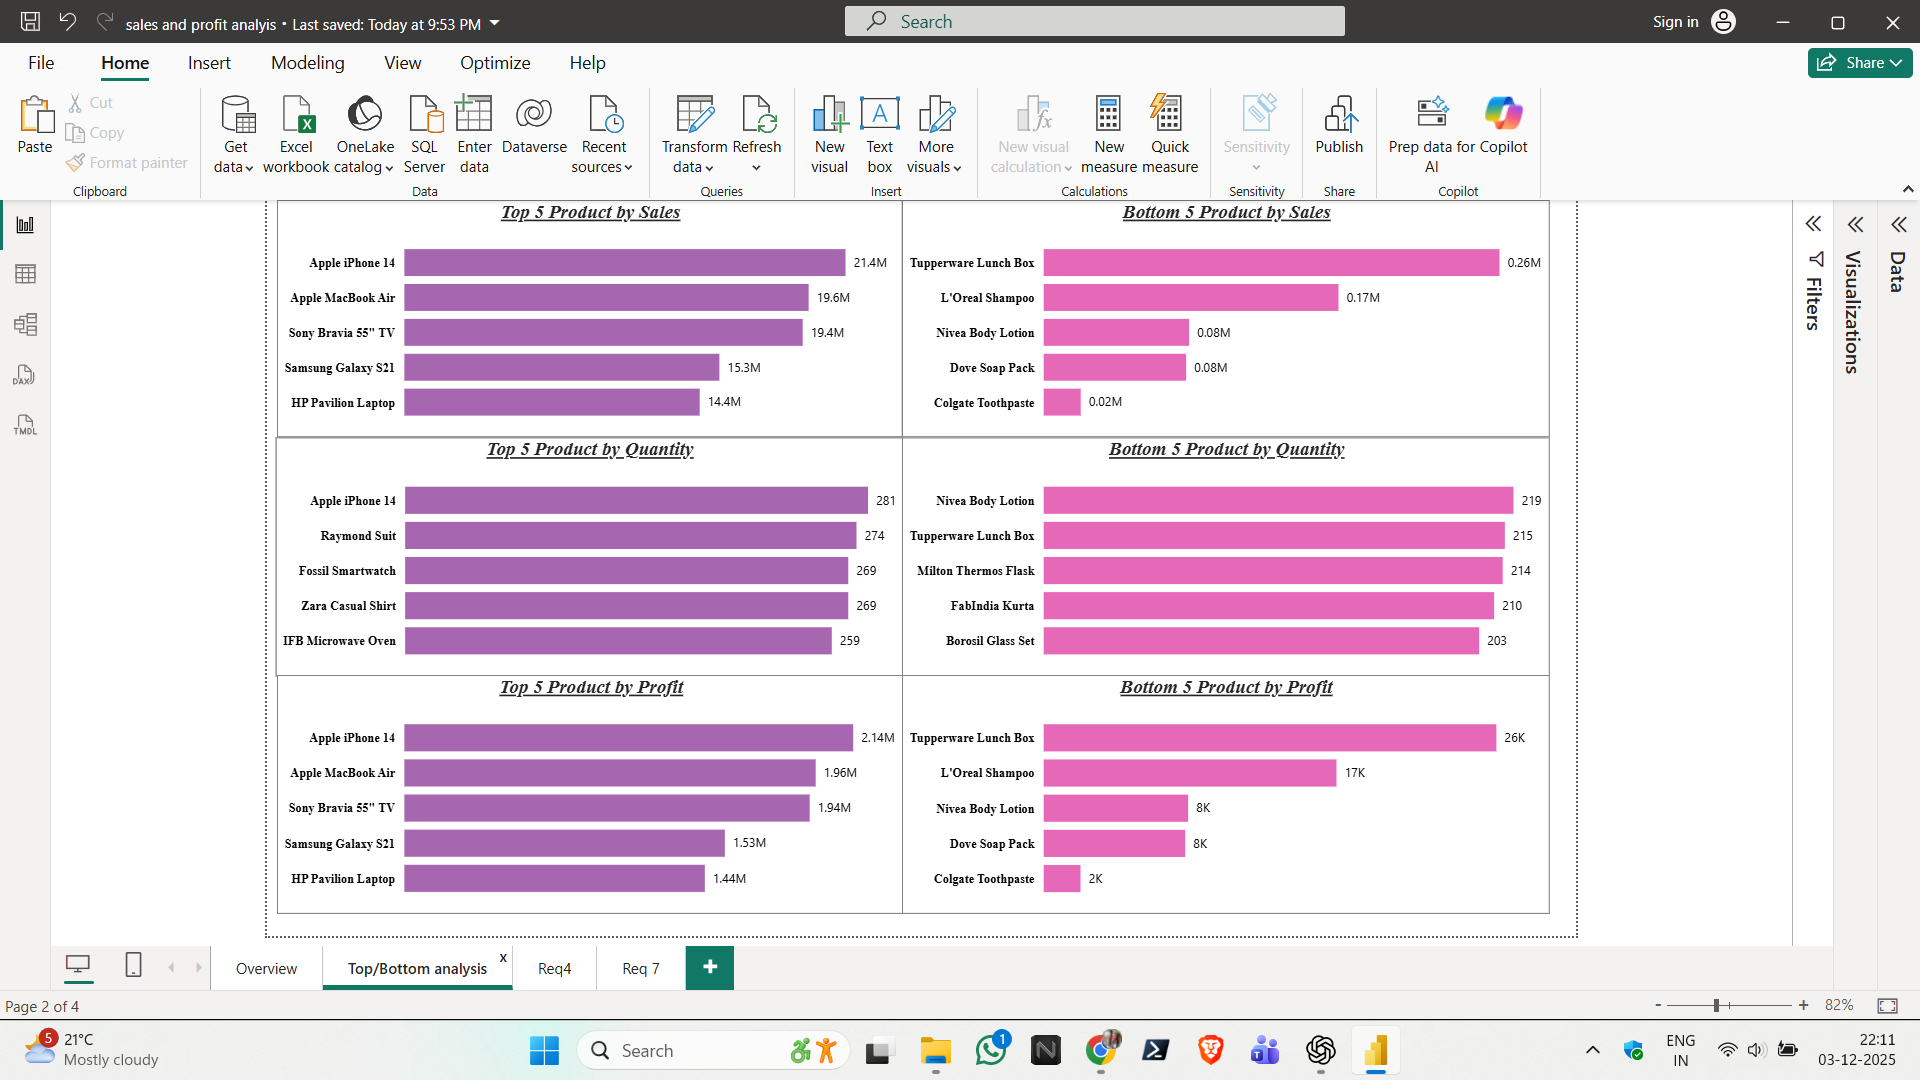

The page's visual inventory and layout, read from the dashboard file:
{"tool":"powerbi","page":{"name":"Top/Bottom analysis","canvas":[1280,720],"ordinal":1},"visuals":[{"type":"barChart","title":"Top 5 Product by Sales","fields":{"Y":["facttable.Net Sales"],"Category":["Dim Product.Product Name"]},"box":[9.6,0,612,231.9],"z":0},{"type":"barChart","title":"Bottom 5 Product by Sales","fields":{"Y":["facttable.Net Sales"],"Category":["Dim Product.Product Name"]},"box":[621.6,0,634,231.9],"z":1000},{"type":"barChart","title":"Top 5 Product by Quantity","fields":{"Category":["Dim Product.Product Name"],"Y":["facttable.Units Sold"]},"box":[8.2,231.9,613.4,233.3],"z":2000},{"type":"barChart","title":"Bottom 5 Product by Quantity","fields":{"Category":["Dim Product.Product Name"],"Y":["facttable.Units Sold"]},"box":[621.6,231.9,634,233.3],"z":3000},{"type":"barChart","title":"Top 5 Product by Quantity","fields":{"Category":["Dim Product.Product Name"],"Y":["facttable.Units Sold"]},"box":[8.2,231.9,613.4,233.3],"z":4000},{"type":"barChart","title":"Top 5 Product by Profit","fields":{"Category":["Dim Product.Product Name"],"Y":["facttable.Profit"]},"box":[9.6,465.2,613.4,233.3],"z":5000},{"type":"barChart","title":"Bottom 5 Product by Profit","fields":{"Category":["Dim Product.Product Name"],"Y":["facttable.Profit"]},"box":[621.2,464.7,633.4,233.6],"z":6000}]}

Visuals, with their boxes on the page's 1280x720 design canvas (x1, y1, x2, y2). These are canvas units, not pixel positions in the 1920x1080 screenshot, which may show the page scaled, cropped or inside an application window:
"Top 5 Product by Sales" barChart: box=[10, 0, 622, 232]
"Bottom 5 Product by Sales" barChart: box=[622, 0, 1256, 232]
"Top 5 Product by Quantity" barChart: box=[8, 232, 622, 465]
"Bottom 5 Product by Quantity" barChart: box=[622, 232, 1256, 465]
"Top 5 Product by Quantity" barChart: box=[8, 232, 622, 465]
"Top 5 Product by Profit" barChart: box=[10, 465, 623, 698]
"Bottom 5 Product by Profit" barChart: box=[621, 465, 1255, 698]
